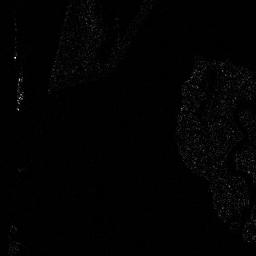ship: (15, 74, 24, 107)
